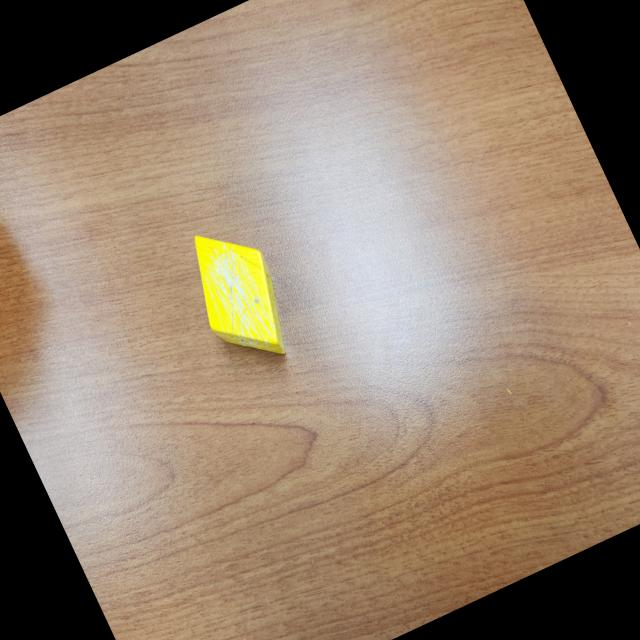broken: (172, 212, 306, 380)
